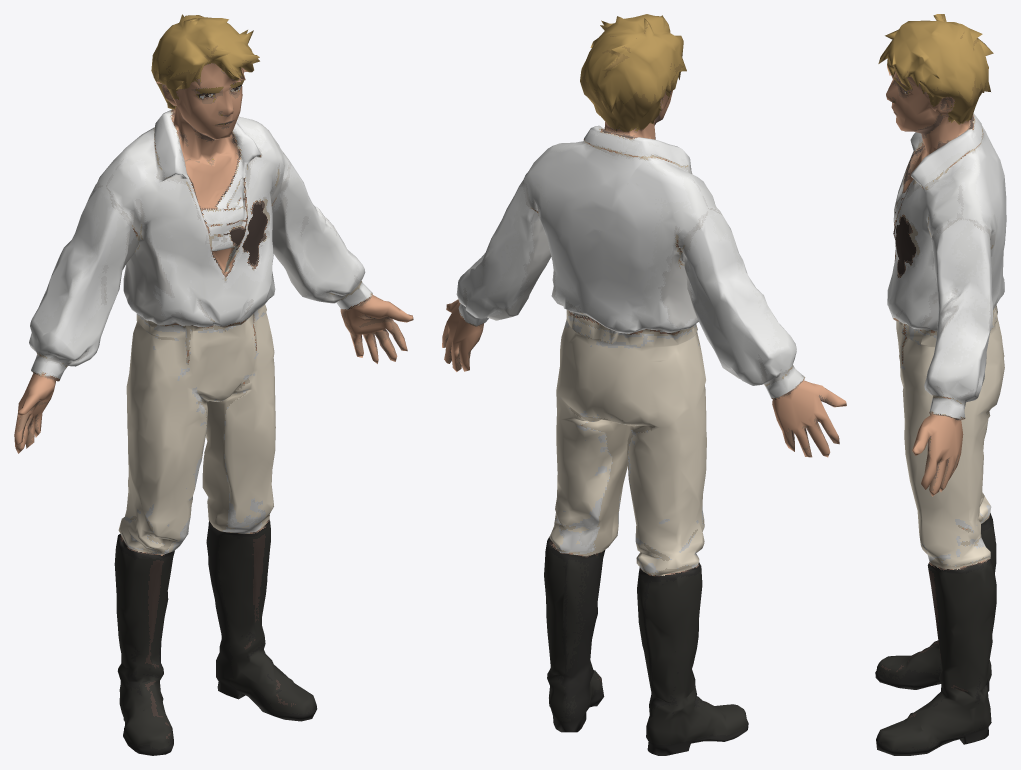
Rendered from alferez.glb.
3 views of the same model, side by side, from view 1: azimuth 30°, elevation 25°; view 2: azimuth 150°, elevation 25°; view 3: azimuth 270°, elevation 25° (orthographic).
Visible parts, largest first — view 1: tripo_node_d2e87b1f-c6cb-48ba-8691-0c5ee9938d44; view 2: tripo_node_d2e87b1f-c6cb-48ba-8691-0c5ee9938d44; view 3: tripo_node_d2e87b1f-c6cb-48ba-8691-0c5ee9938d44.
Part boxes in pixels (x1=…): tripo_node_d2e87b1f-c6cb-48ba-8691-0c5ee9938d44: x1=14, y1=14, x2=413, y2=755; tripo_node_d2e87b1f-c6cb-48ba-8691-0c5ee9938d44: x1=442, y1=14, x2=846, y2=755; tripo_node_d2e87b1f-c6cb-48ba-8691-0c5ee9938d44: x1=875, y1=14, x2=1006, y2=755.
Size of the model in its own units: 0.5917 by 1 by 0.1714.
1 material, 1 textured.
